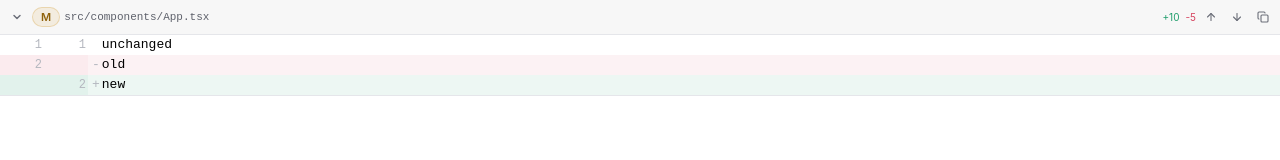
DiffFileSection › collapses and expands when clicking the toggle button
Expected: the table is shown, [0,35,1279,95]
# Click collapse
Click the button named "Collapse" at point(17, 17), box [6,6,28,28]
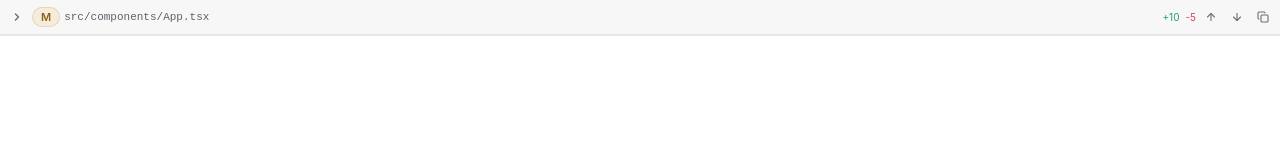
Expected: the table is gone
# Click expand
Click the button named "Expand" at point(17, 17), box [6,6,28,28]
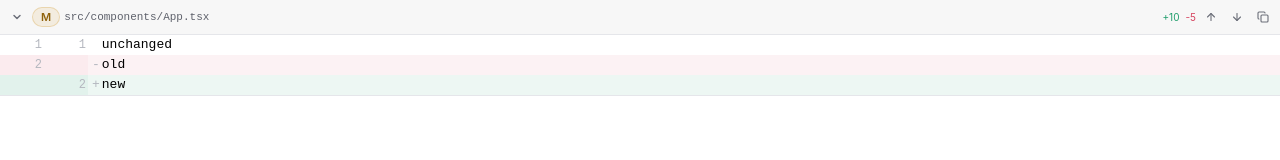
Expected: the table is shown, [0,35,1279,95]
